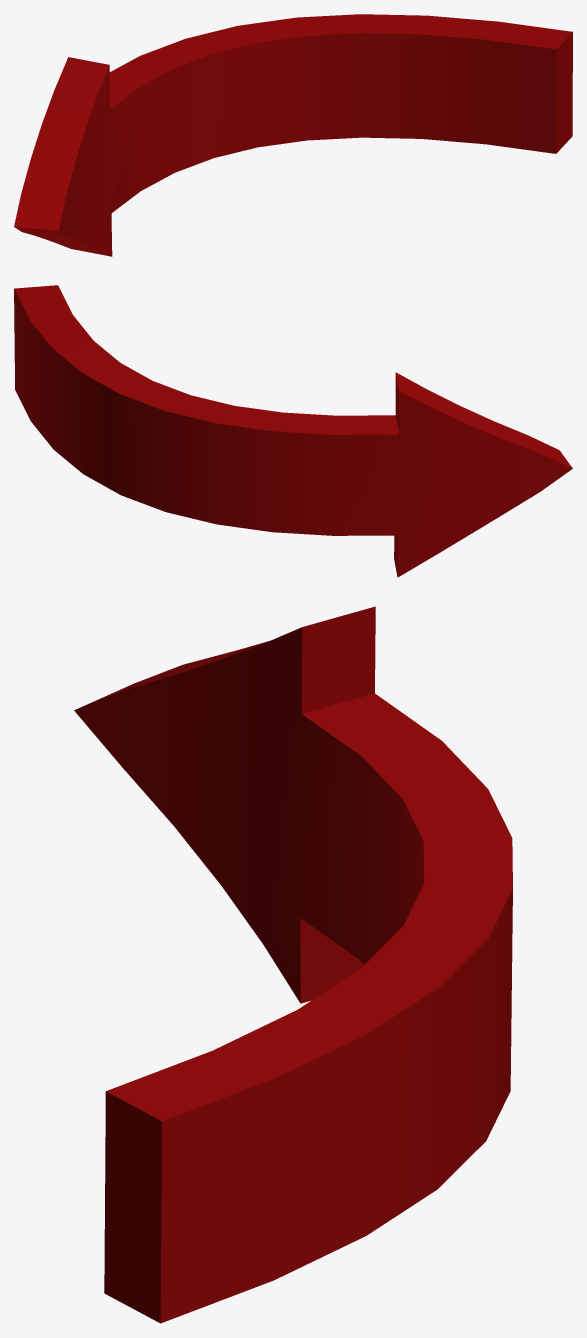
File: Arrow.FBX
3 views of the same model, one above another, from view 1: azimuth 30°, elevation 25°; view 2: azimuth 150°, elevation 25°; view 3: azimuth 270°, elevation 25° (orthographic). The views are drawn at different scales.
Visible parts, largest first — view 1: Line001; view 2: Line001; view 3: Line001.
Part boxes in pixels (left/top/right/bottom): Line001: left=14, top=14, right=572, bottom=256; Line001: left=14, top=285, right=572, bottom=577; Line001: left=74, top=606, right=512, bottom=1323.
Size of the model in its own units: 1.13 by 0.3657 by 0.3876.
